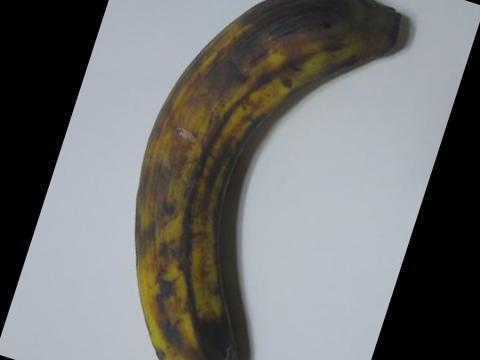overripe: (112, 0, 417, 359)
